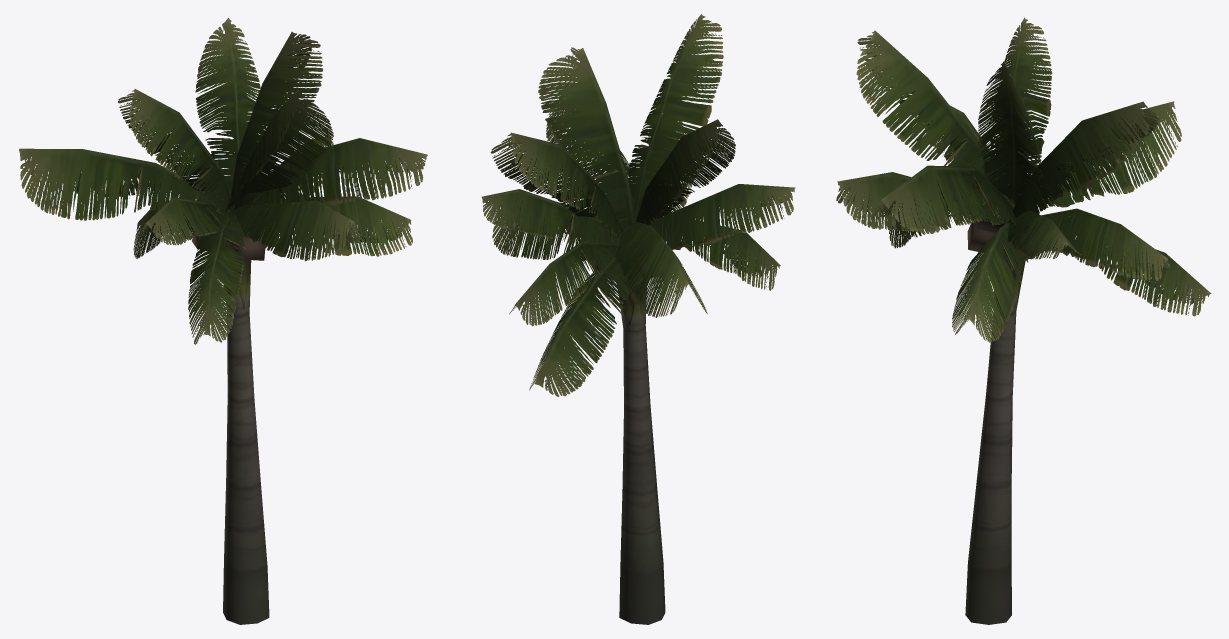
3 views of the same model, side by side, from view 1: azimuth 30°, elevation 25°; view 2: azimuth 150°, elevation 25°; view 3: azimuth 270°, elevation 25° (orthographic). The views are drawn at different scales.
Visible parts, largest first — view 1: body0_model0_lod0_mesh0; view 2: body0_model0_lod0_mesh0; view 3: body0_model0_lod0_mesh0.
Part boxes in pixels (<box>): body0_model0_lod0_mesh0: <box>19,17,427,624</box>; body0_model0_lod0_mesh0: <box>481,14,795,624</box>; body0_model0_lod0_mesh0: <box>836,17,1211,624</box>.
Size of the model in its own units: 325 by 562 by 337.
Materials: 1 (1 with a texture image).
